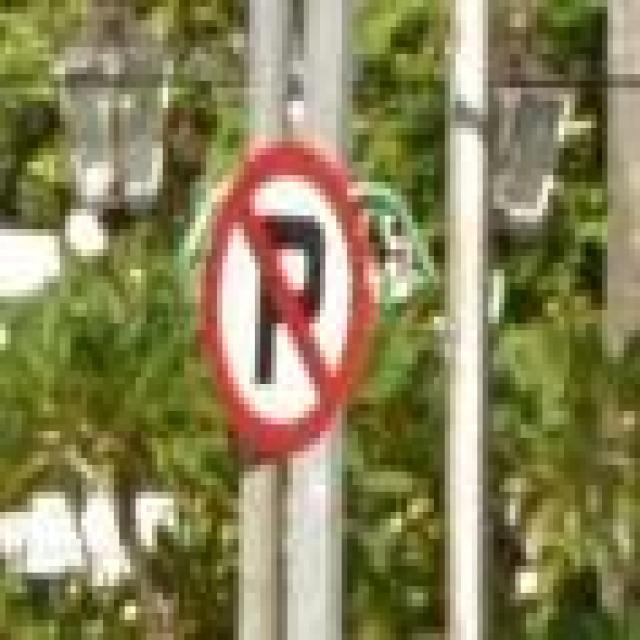no parking: (196, 155, 364, 452)
